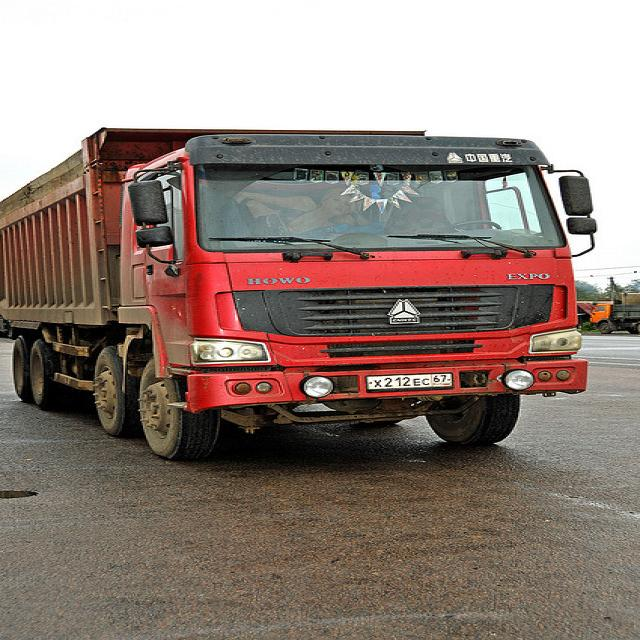Vehicle: (0, 127, 596, 461)
